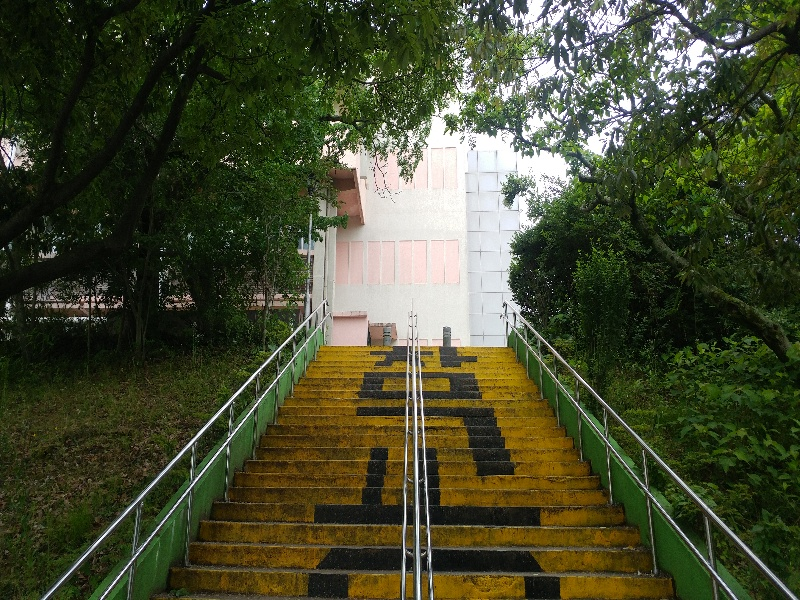College Of Education: (273, 2, 577, 554)
